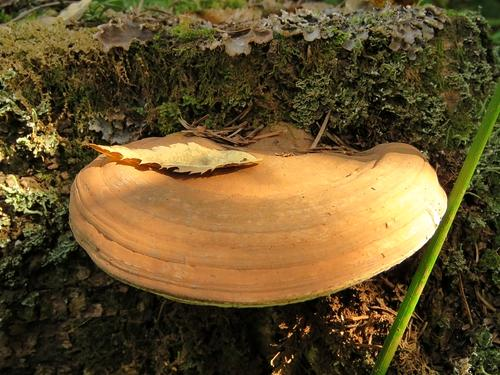Ganoderma - Fruit Body: (68, 135, 448, 309)
